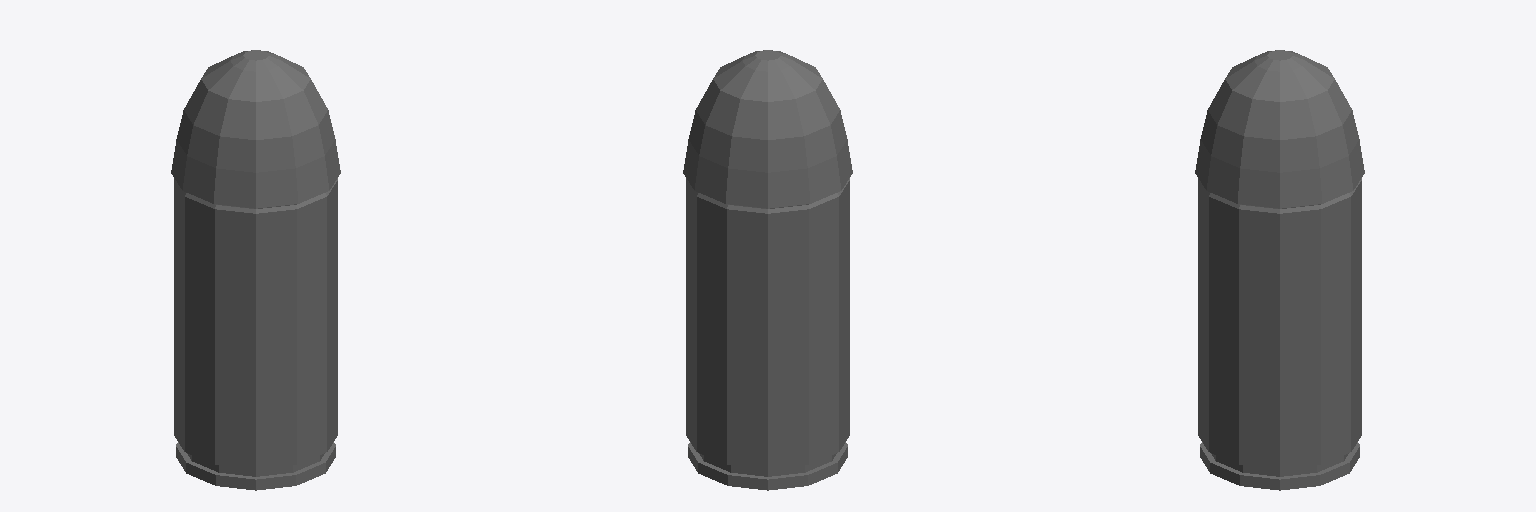
The model's file is Bala.obj.
3 views of the same model, side by side, from view 1: azimuth 30°, elevation 25°; view 2: azimuth 150°, elevation 25°; view 3: azimuth 270°, elevation 25° (orthographic).
Visible parts, largest first — view 1: Mesh; view 2: Mesh; view 3: Mesh.
Boxes of the visible parts, x1,y1,x2,y2 form: Mesh: [171, 50, 340, 490]; Mesh: [683, 50, 852, 490]; Mesh: [1195, 50, 1364, 490].
Bounding box in the file's own units: 0.3916 × 1.02 × 0.3916.